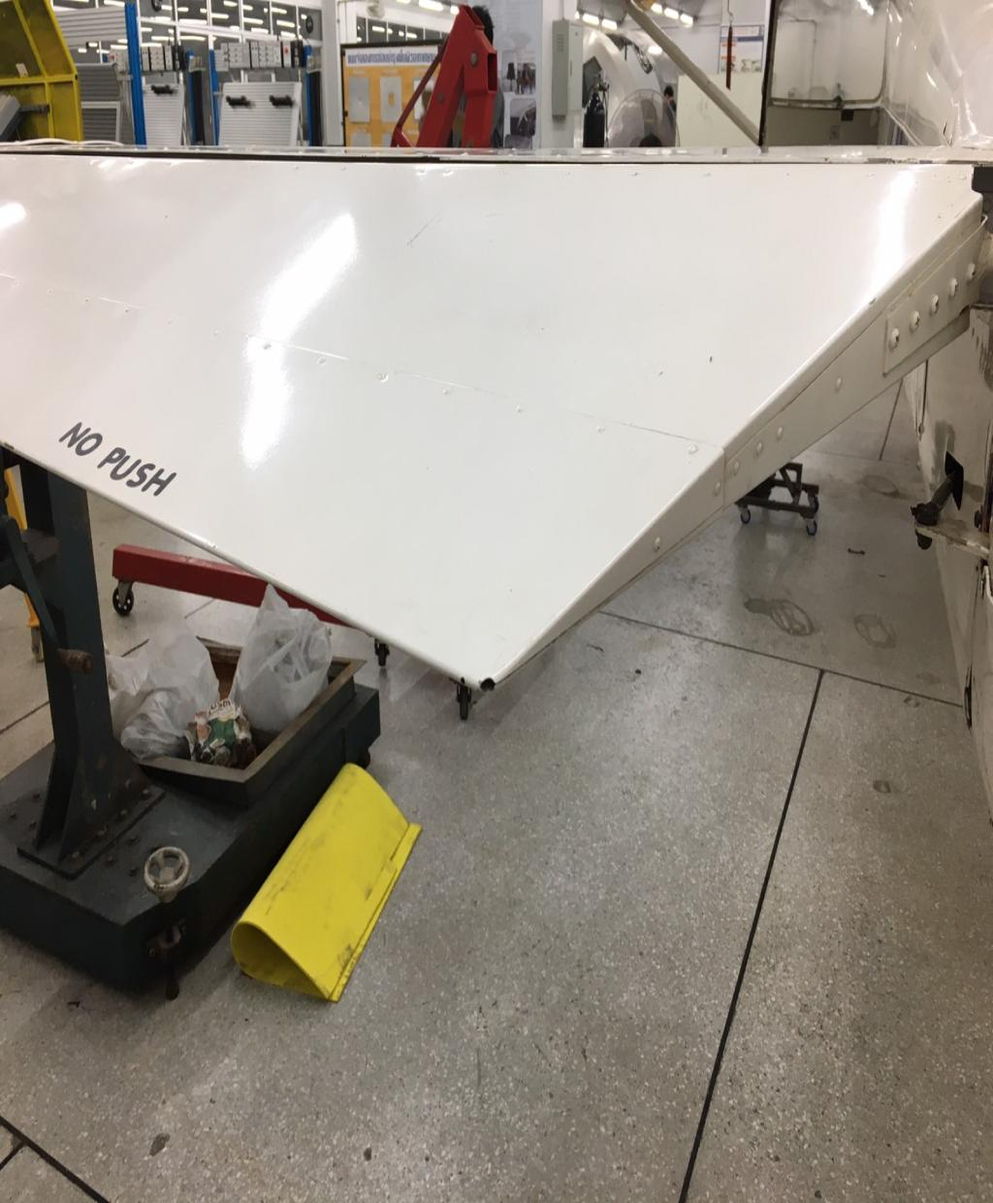crack: (479, 676, 497, 698)
